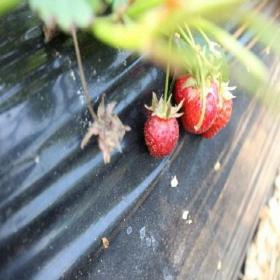Gray Mold: (81, 93, 132, 163)
